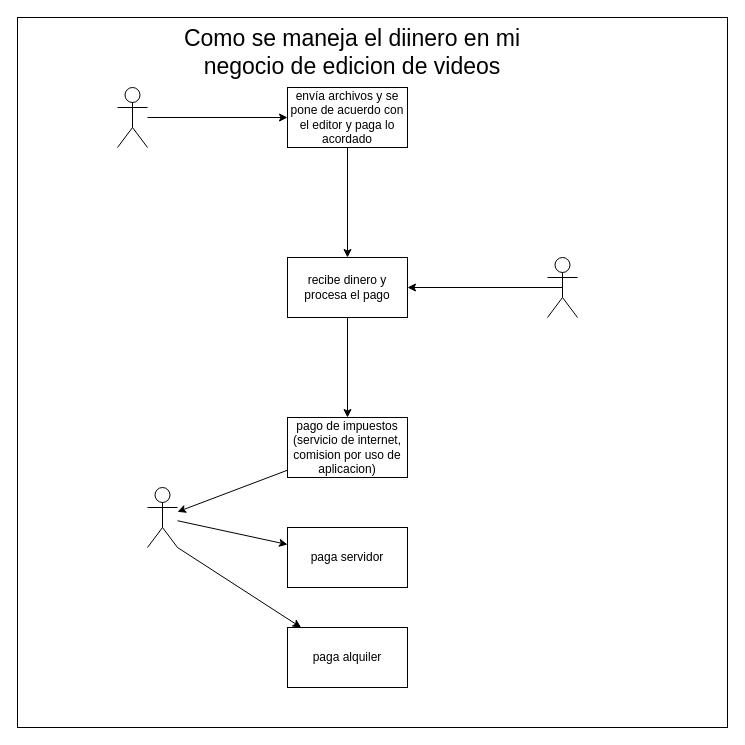
Some shapes in this 745 by 745 pixel diagram are drawn without their labels. Each missing label, with the box of its shape:
cliente: (116, 86, 148, 148)
empresa: (146, 486, 178, 548)
mercadopago: (546, 256, 578, 318)
